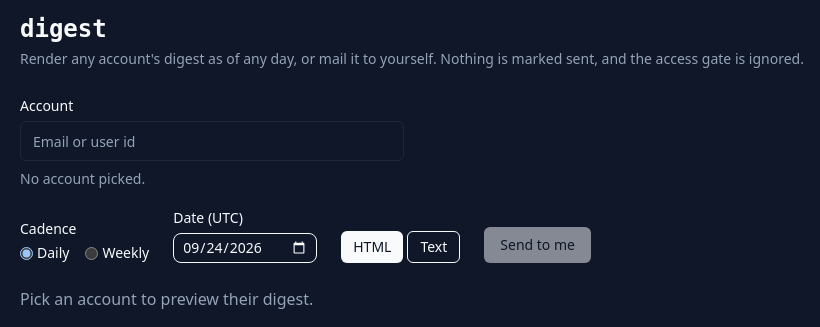
Test: AdminDigest › says so when the id belongs to no account
The width and height of the screenshot is (820, 327).
Type "7f1c3a52-9d1e-4a4b-8e0f-2b6c1d9e4a10" into the search field labelled "Account" at (212, 141), box [20,121,404,161]
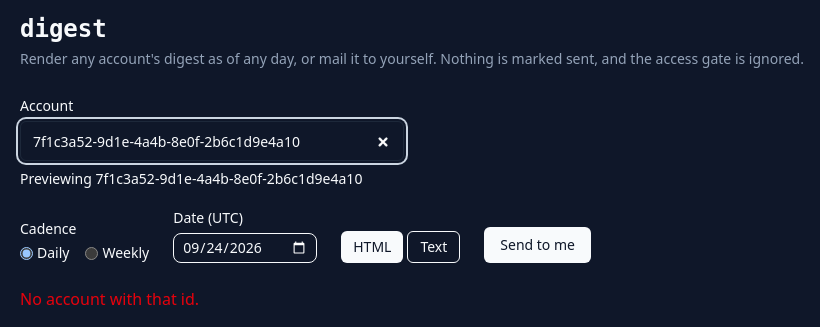
Result: the text "No account with that id." is shown at [20,288,199,310]
